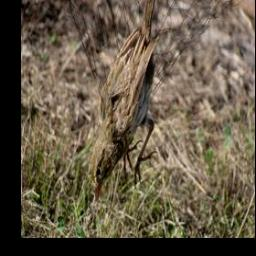Sparrow: (90, 0, 163, 204)
